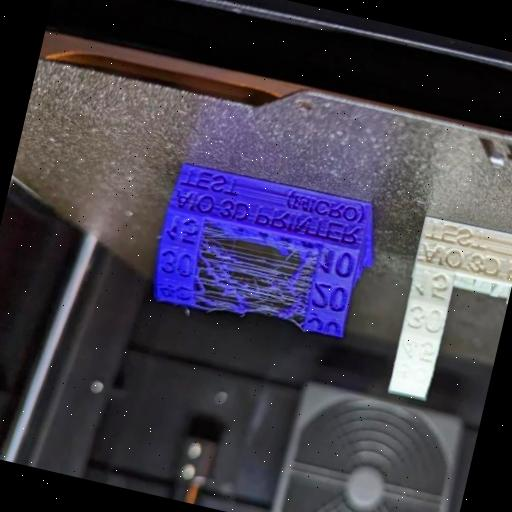stringing: (187, 217, 320, 328)
